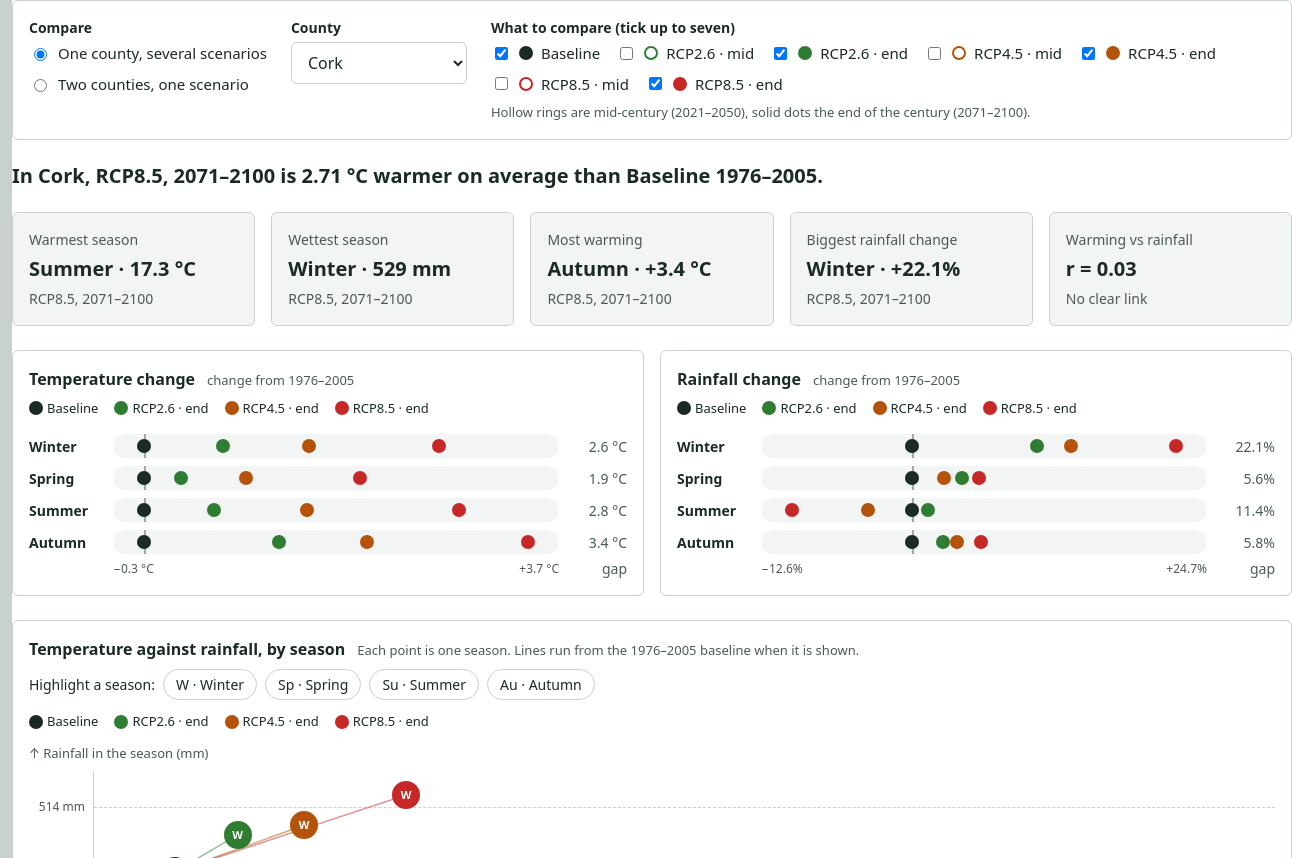
Scenario: CompareExplorer › shows a tip with the values when a point is hovered
Hover over the button named "Winter, RCP8.5".
mouse_move(406, 795)  # box left=392, top=781, right=420, bottom=809
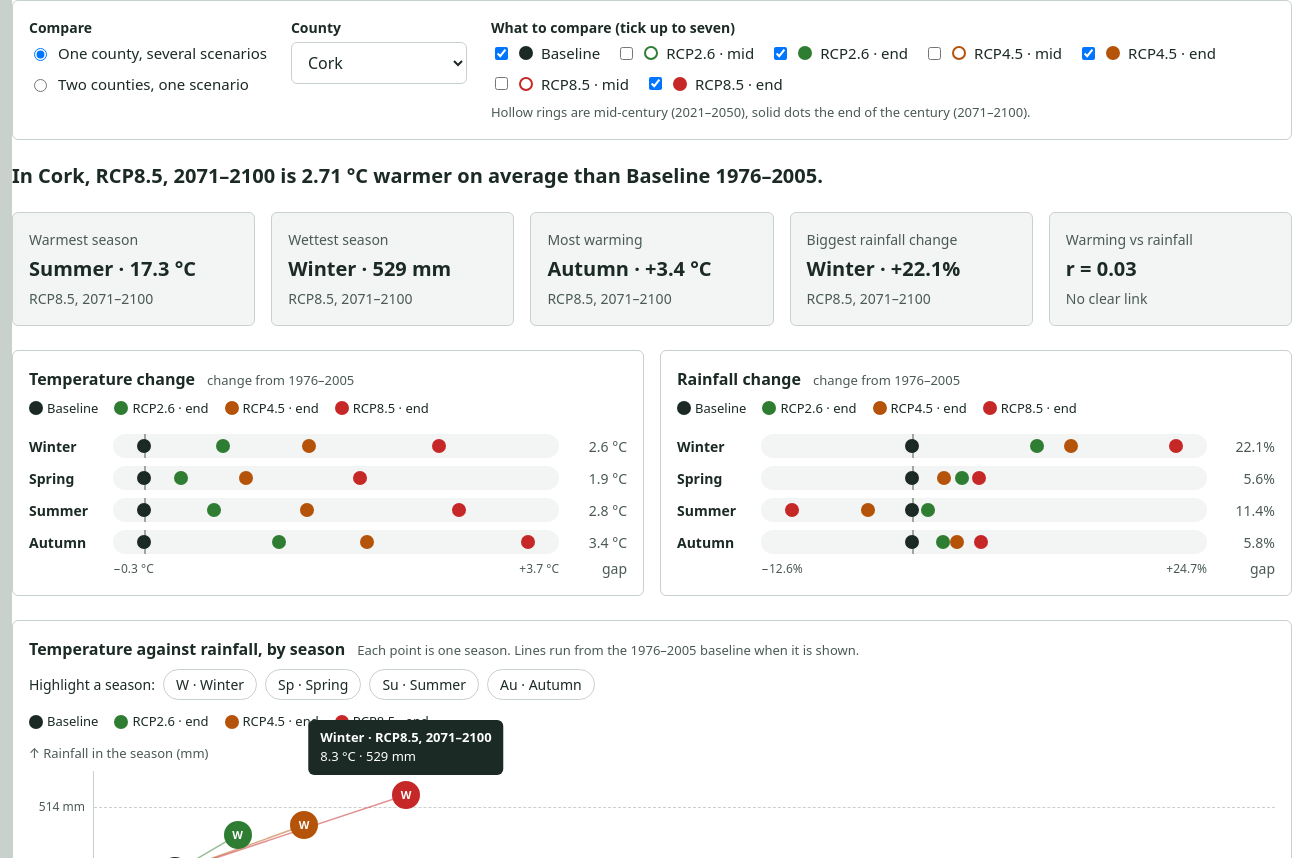
Expected: the text "Winter · RCP8.5, 2071–2100" is shown, left=320, top=728, right=492, bottom=747
Expected: the text "8.3 °C · 529 mm" is shown, left=320, top=747, right=416, bottom=765
